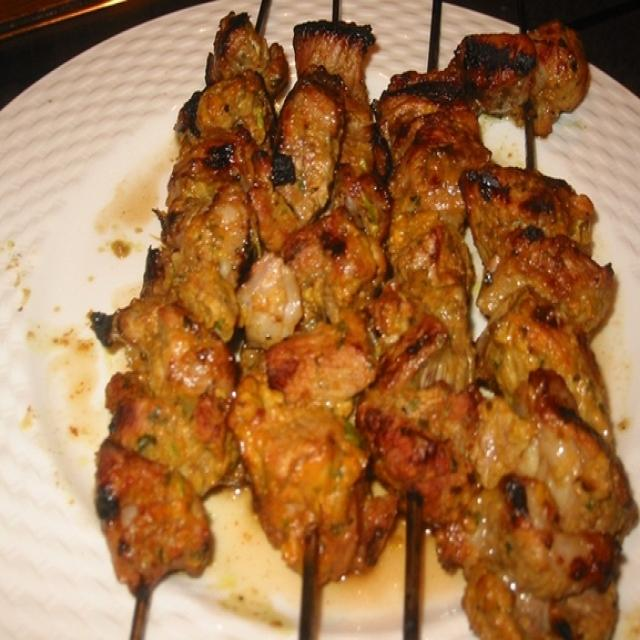烧串烤肉: (40, 7, 626, 624)
